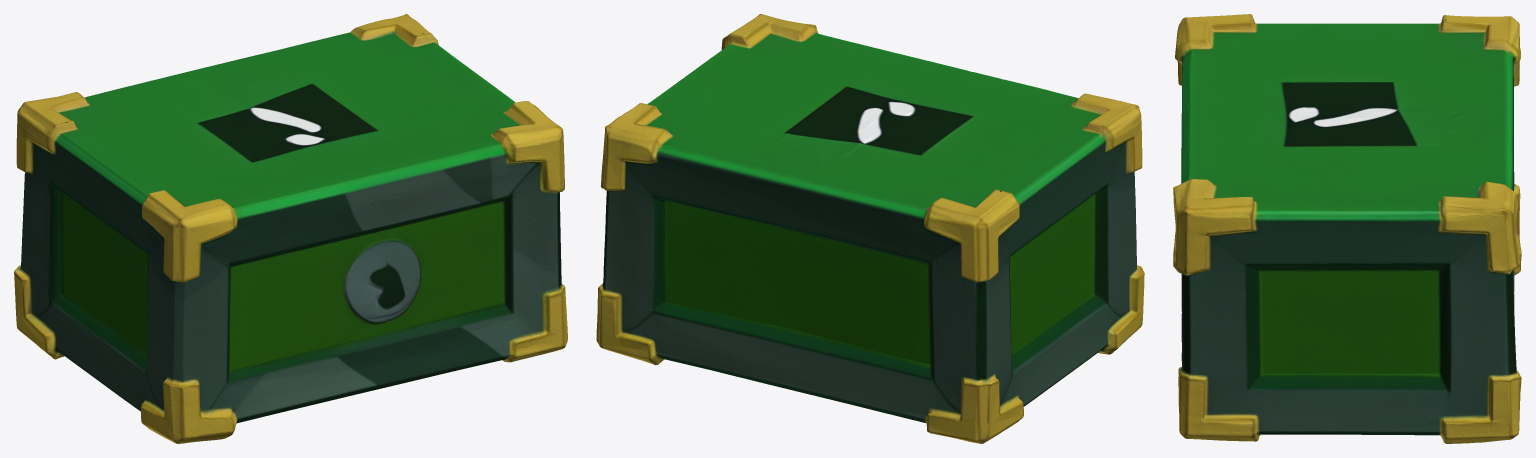
File: common.glb
3 views of the same model, side by side, from view 1: azimuth 30°, elevation 25°; view 2: azimuth 150°, elevation 25°; view 3: azimuth 270°, elevation 25° (orthographic). The views are drawn at different scales.
Visible parts, largest first — view 1: world; view 2: world; view 3: world.
Boxes of the visible parts, bbox=[...] form: world: bbox=[14, 14, 567, 443]; world: bbox=[596, 14, 1144, 443]; world: bbox=[1173, 14, 1521, 443].
Bounding box in the file's own units: 1.99 × 1.12 × 1.46.
Materials: 1 (1 with a texture image).
